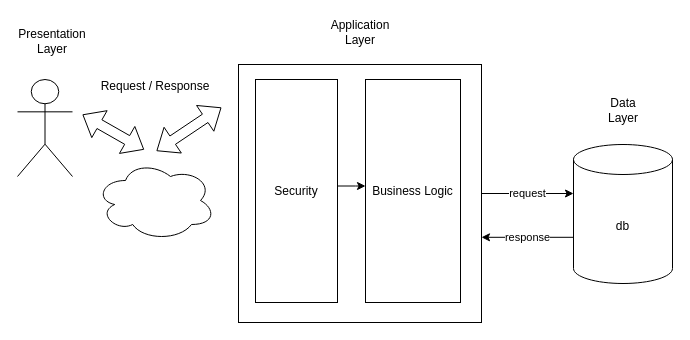
The diagram is 690 pixels wide and 340 high, and some of its shapes have lost their labels. Here are the shapes that lost their labels. From the top down, the centre of each, then its label:
the point at 44,127: Web App
the point at 155,200: Rest API
